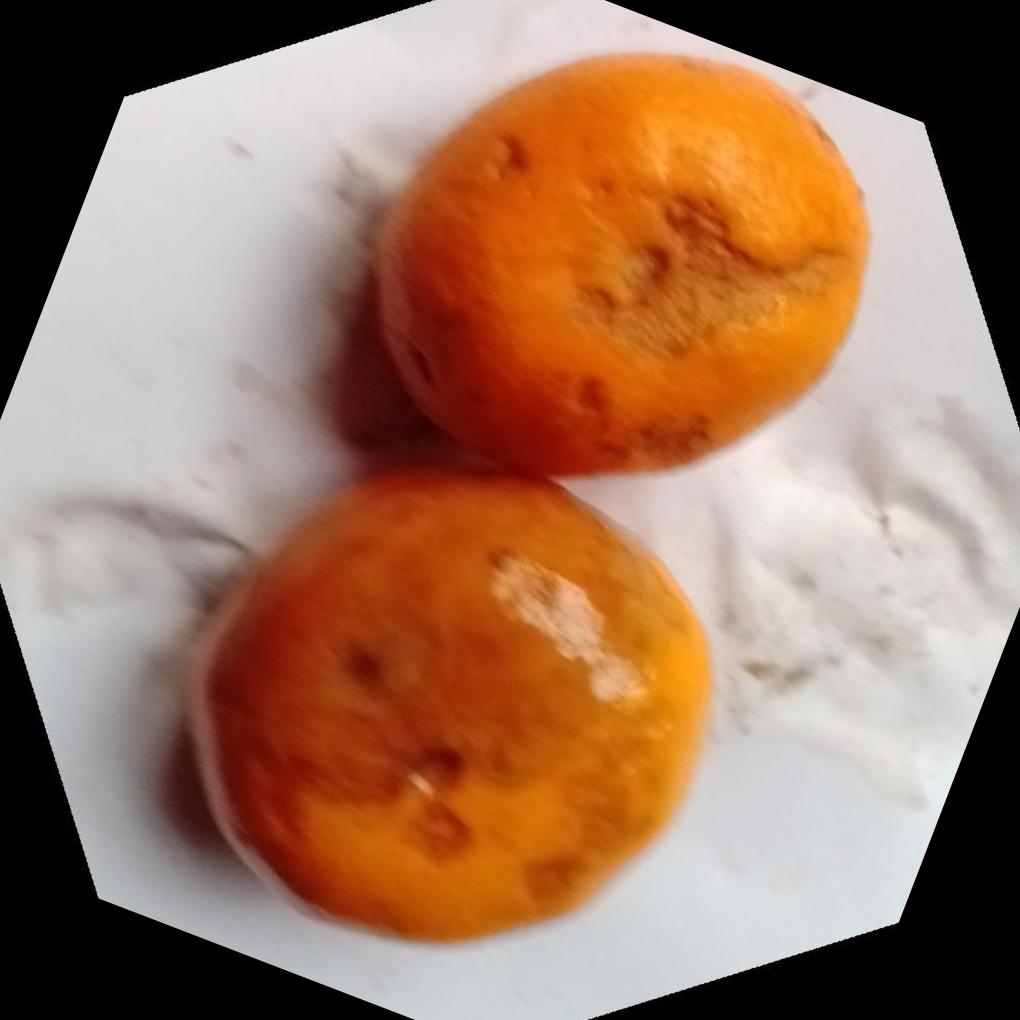FreshOrange: (175, 49, 869, 949)
